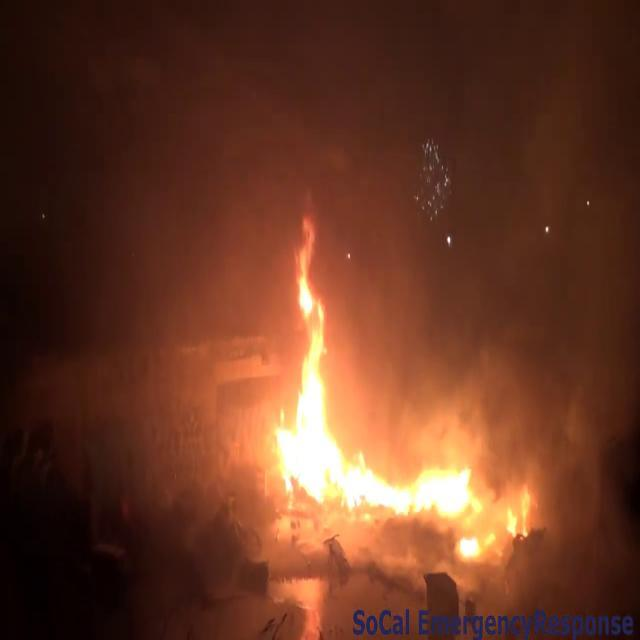Fire: (266, 226, 520, 538)
Smoke: (283, 0, 640, 437)
